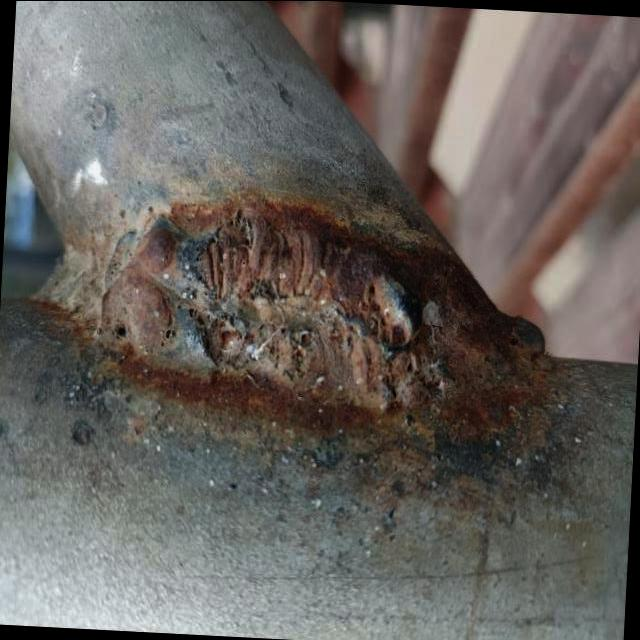defect: (187, 214, 256, 289), (186, 303, 243, 373), (361, 281, 407, 346), (232, 267, 274, 304), (289, 324, 314, 369), (156, 321, 178, 351), (110, 317, 131, 343), (403, 354, 418, 378), (390, 381, 402, 401)
